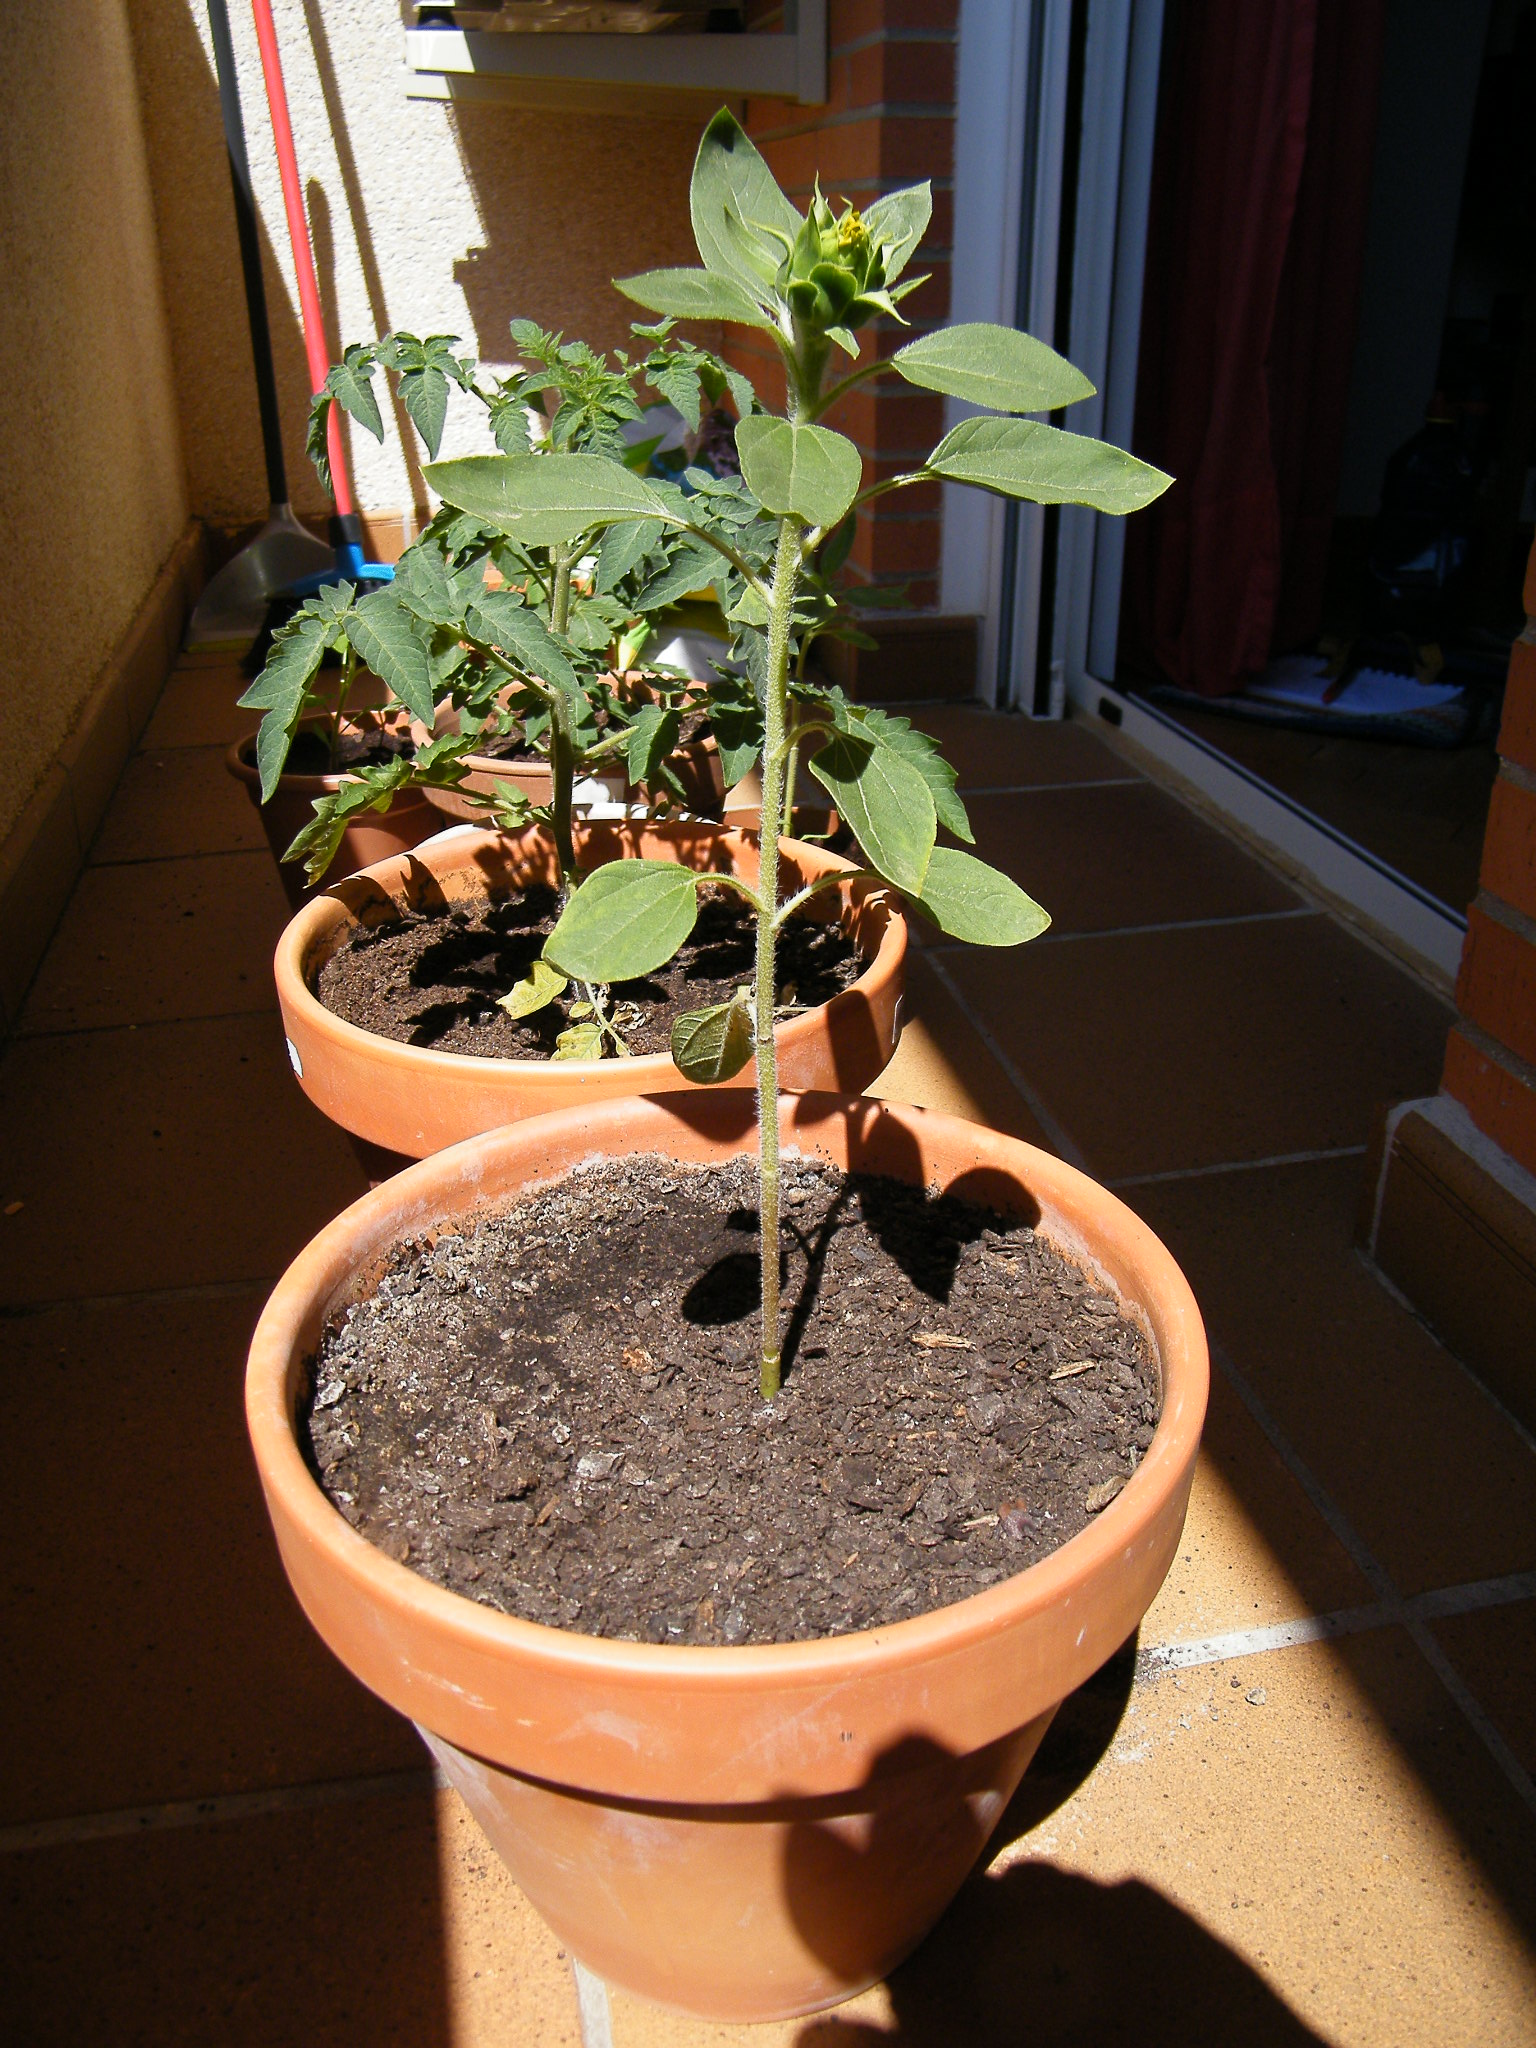girasol2meses: (674, 90, 866, 1397), (369, 255, 678, 1059)
